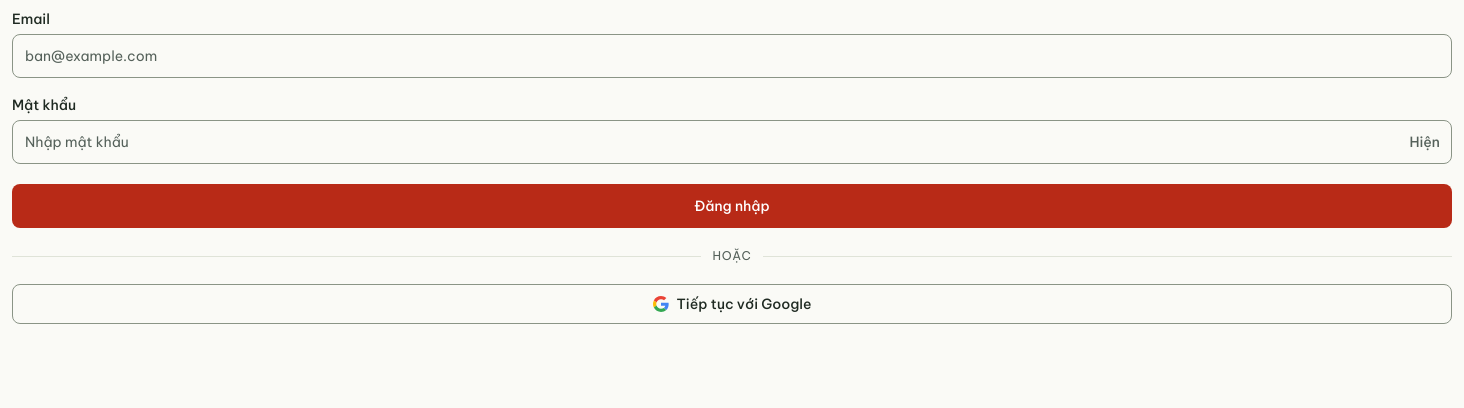
LoginForm › shows a banner for 401
This screenshot has width=1464, height=408.
Type "a@b.co" into the field labelled "Email".
click(732, 56); type("a@b.co")  # box x1=12 y1=34 x2=1452 y2=78
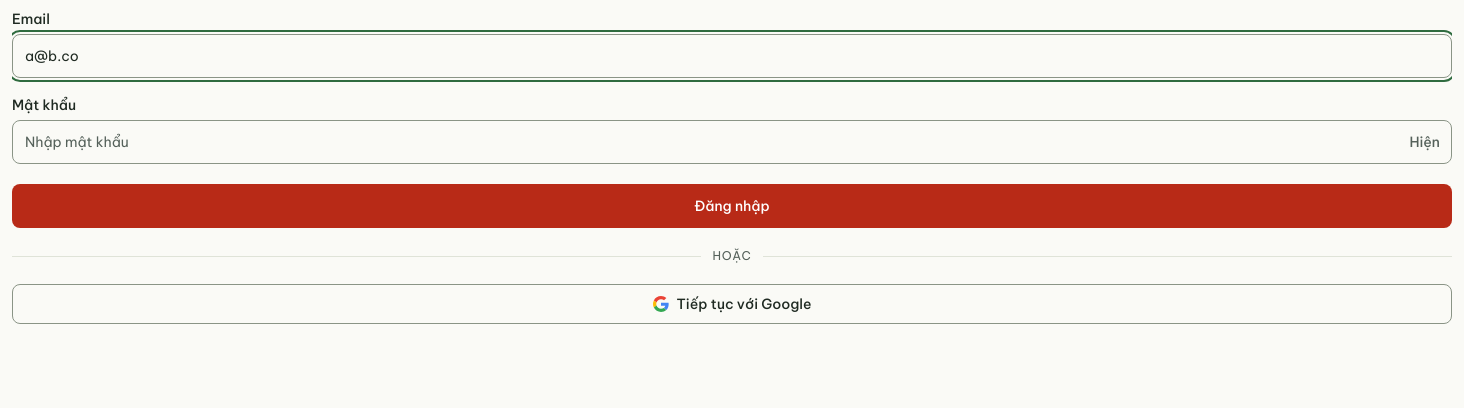
Type "secret" into the password field labelled "Mật khẩu".
click(732, 142); type("secret")  # box x1=12 y1=120 x2=1452 y2=164
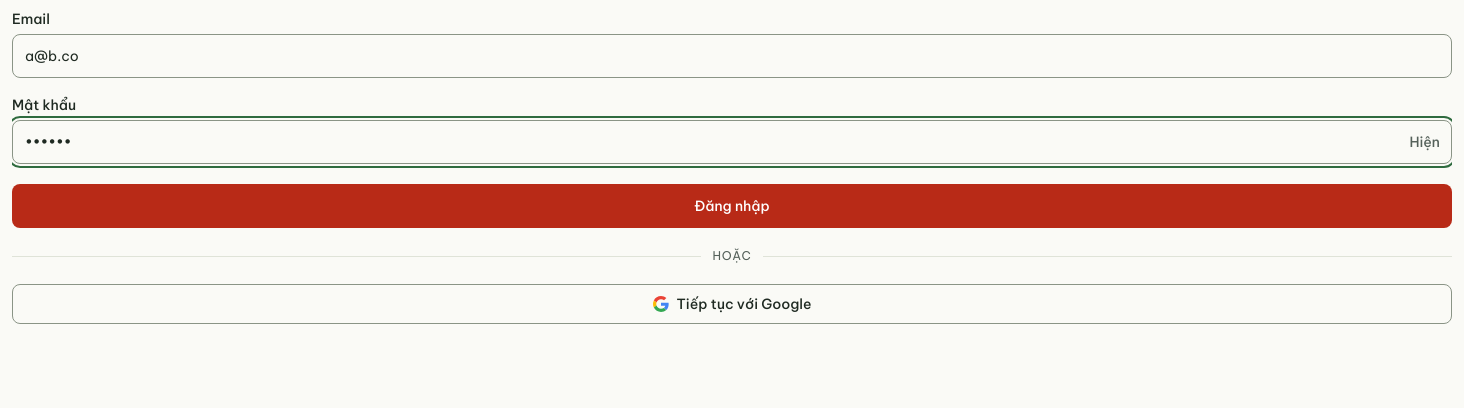
Click the button "Đăng nhập".
click(732, 206)  # box x1=12 y1=184 x2=1452 y2=228
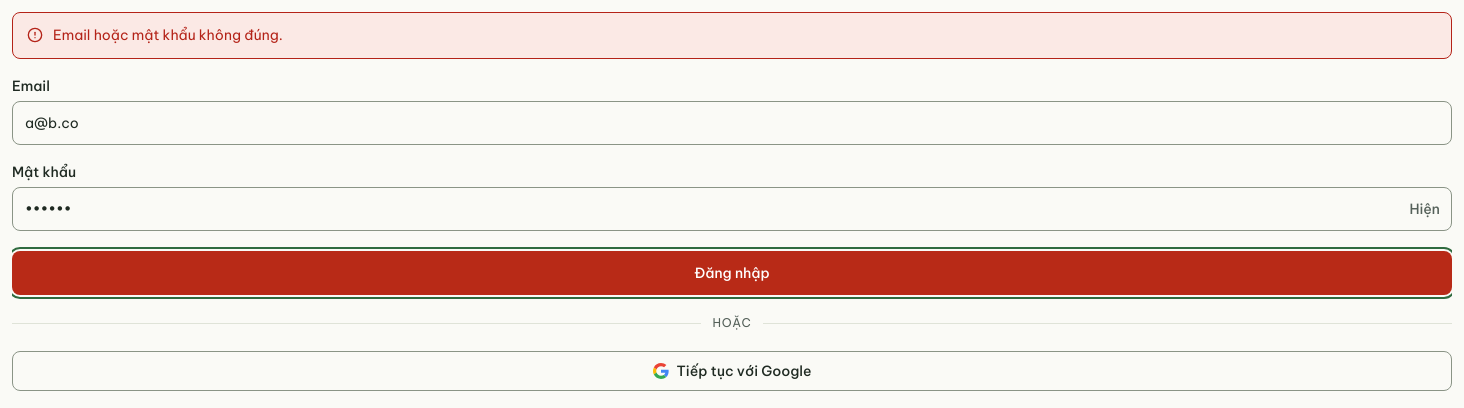
Check: the message shows "Email hoặc mật khẩu không đúng", box x1=53 y1=26 x2=283 y2=44
